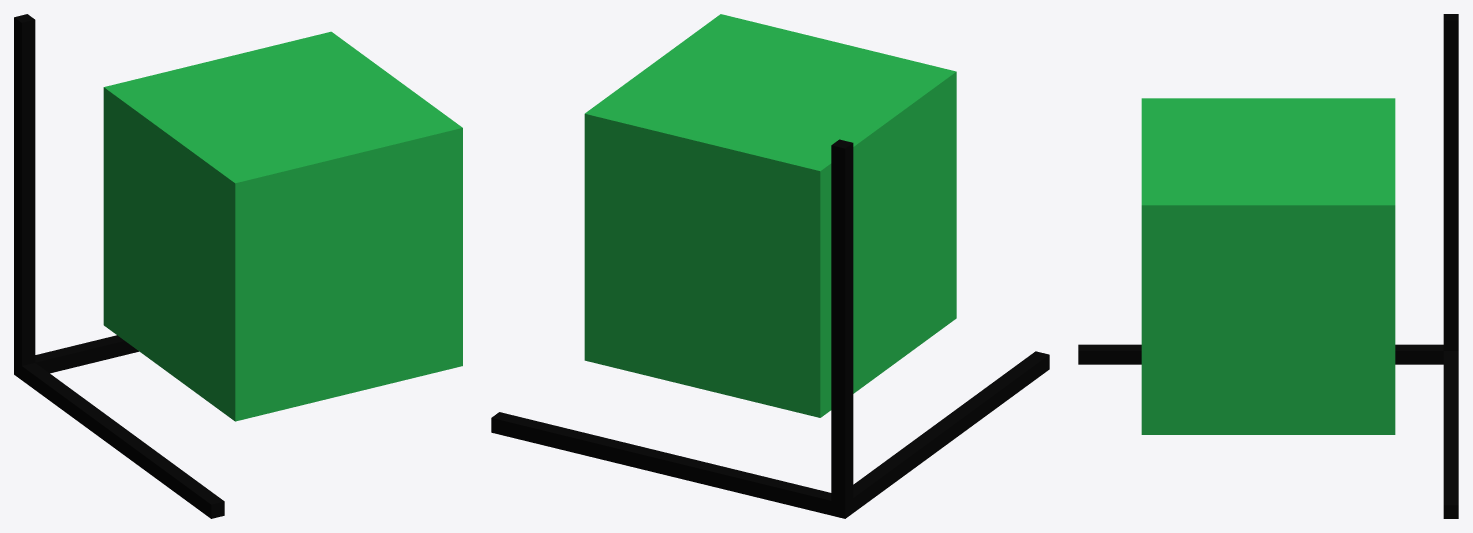
The model's file is cubo.gltf.
3 renders of one model, left to right at view 1: azimuth 30°, elevation 25°; view 2: azimuth 150°, elevation 25°; view 3: azimuth 270°, elevation 25°, orthographic. The views are drawn at different scales.
Bounding box in the file's own units: 0.06 × 0.06 × 0.06.
